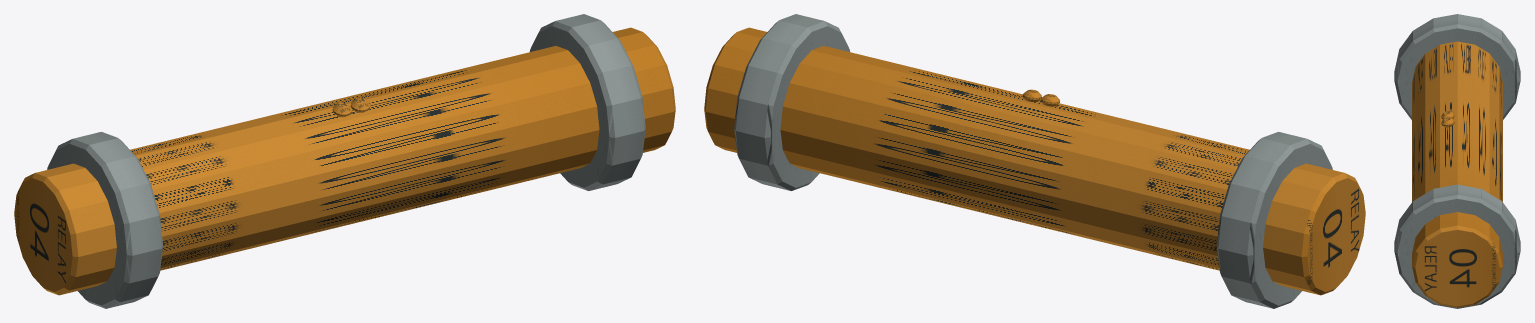
Rendered from pipe_straight_LOD0.obj.
3 renders of one model, left to right at view 1: azimuth 30°, elevation 25°; view 2: azimuth 150°, elevation 25°; view 3: azimuth 270°, elevation 25°, orthographic. The views are drawn at different scales.
Visible parts, largest first — view 1: L02_pipe_straight_LOD0; view 2: L02_pipe_straight_LOD0; view 3: L02_pipe_straight_LOD0.
Part boxes in pixels (left/top/right/bottom): L02_pipe_straight_LOD0: left=14, top=14, right=675, bottom=308; L02_pipe_straight_LOD0: left=704, top=14, right=1365, bottom=308; L02_pipe_straight_LOD0: left=1394, top=14, right=1520, bottom=308.
Bounding box in the file's own units: 2 × 0.5 × 0.5.
Materials: 1 (1 with a texture image).
